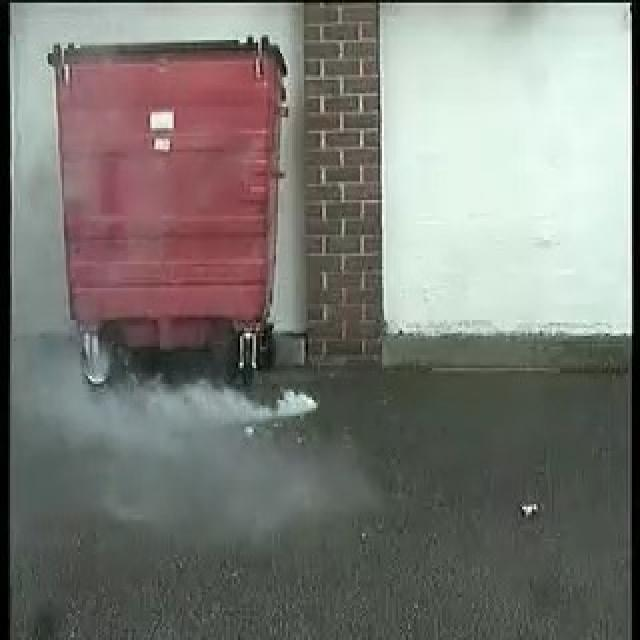smoke: (79, 384, 318, 450)
